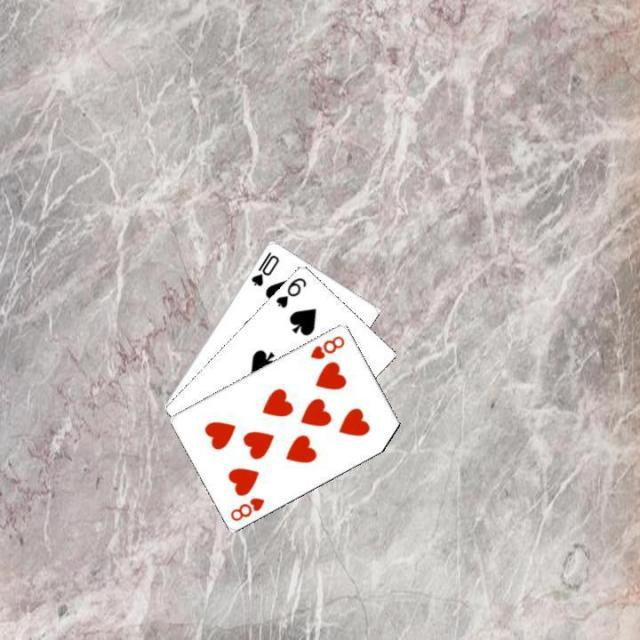10S: (247, 247, 281, 288)
6S: (272, 272, 308, 310)
8H: (306, 331, 346, 361), (226, 493, 266, 523)
